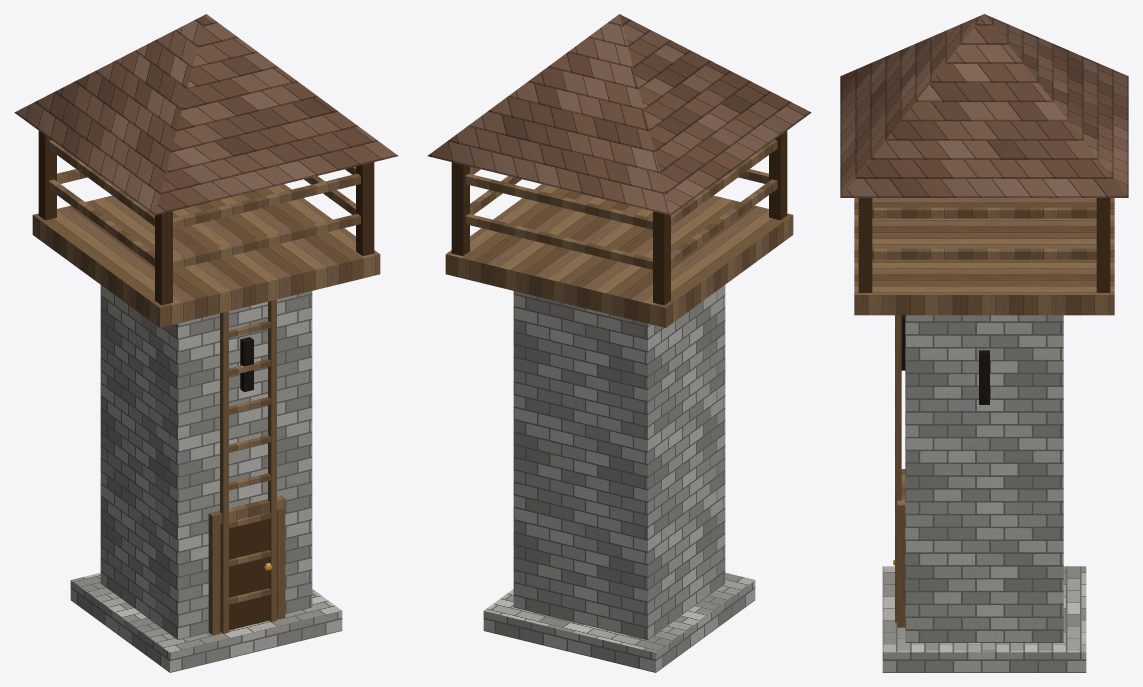
File: watchtower.glb
3 renders of one model, left to right at view 1: azimuth 30°, elevation 25°; view 2: azimuth 150°, elevation 25°; view 3: azimuth 270°, elevation 25°, orthographic. The views are drawn at different scales.
Visible parts, largest first — view 1: watchtower; view 2: watchtower; view 3: watchtower.
Boxes of the visible parts, left/top/right/bottom form: watchtower: left=14, top=14, right=398, bottom=672; watchtower: left=427, top=14, right=811, bottom=672; watchtower: left=840, top=14, right=1128, bottom=672.
Bounding box in the file's own units: 2.55 × 6 × 2.55.
Materials: 6 (3 with a texture image).
